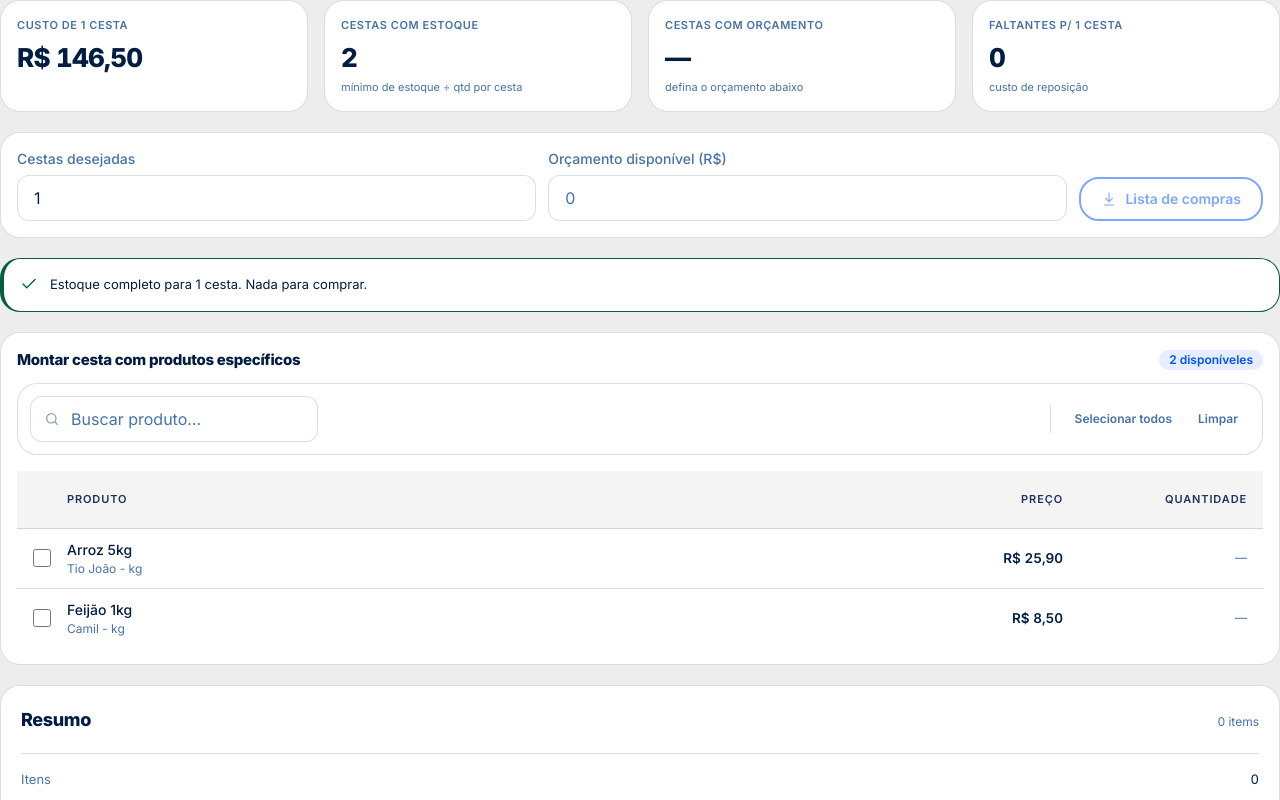
Test: SimuladorClient › MONTAGEM DE CESTA (fluxo original) › reseta número de cestas para 1 após salvar
The width and height of the screenshot is (1280, 800).
Click the checkbox labelled "Arroz 5kg Tio João - kg" at (42, 558), box left=33, top=549, right=51, bottom=567
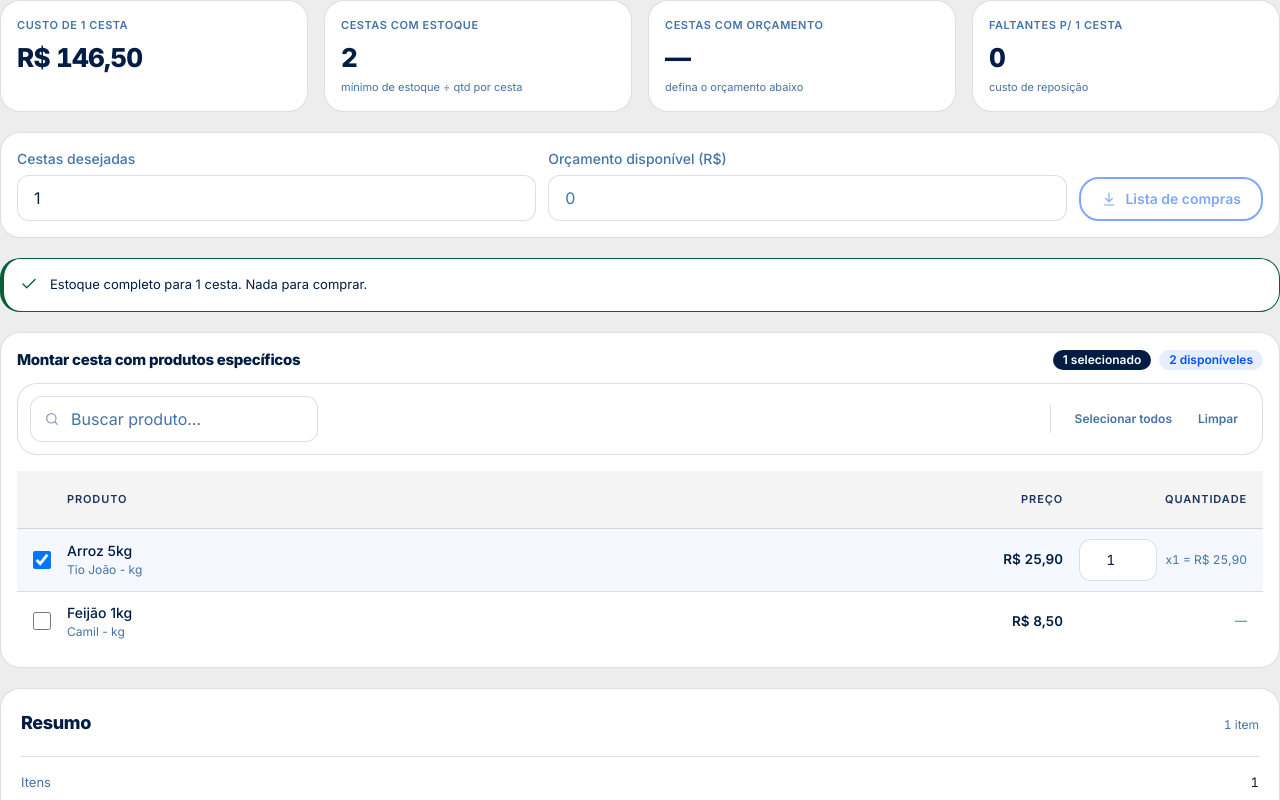
Replace the text in the field with id "num-cestas" with "5" at (277, 198), box left=17, top=175, right=536, bottom=221
(page scrolled)
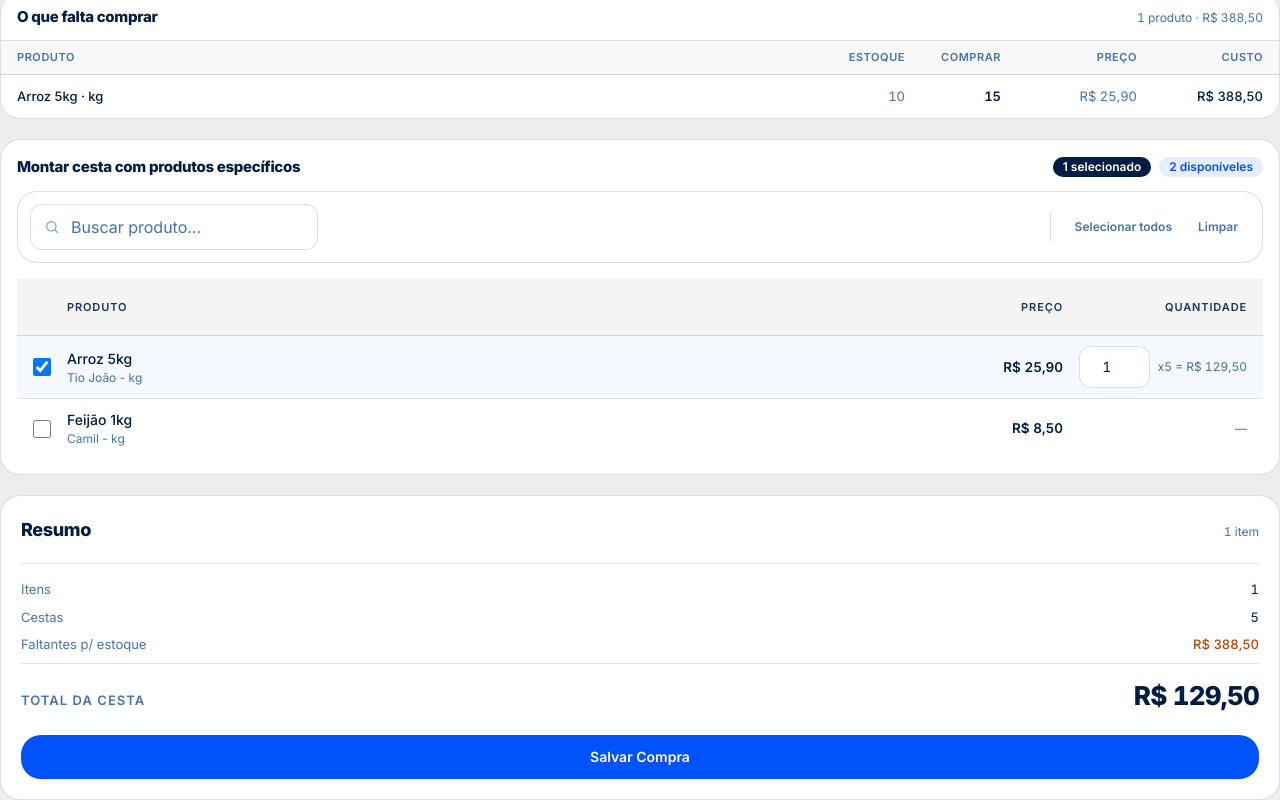
Click the button "Salvar Compra" at (640, 756), box left=21, top=734, right=1259, bottom=778
(page scrolled)
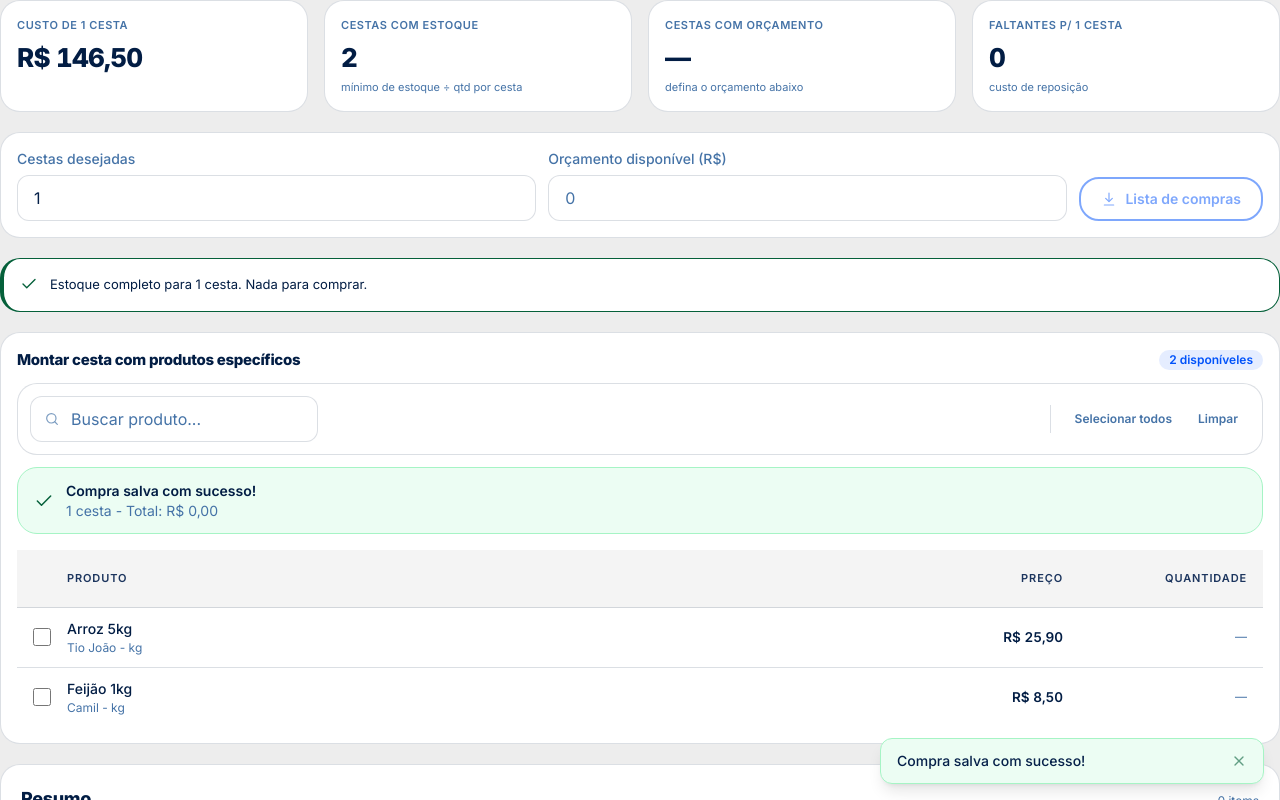
Now the field with id "num-cestas" holds "1", box left=17, top=175, right=536, bottom=221
